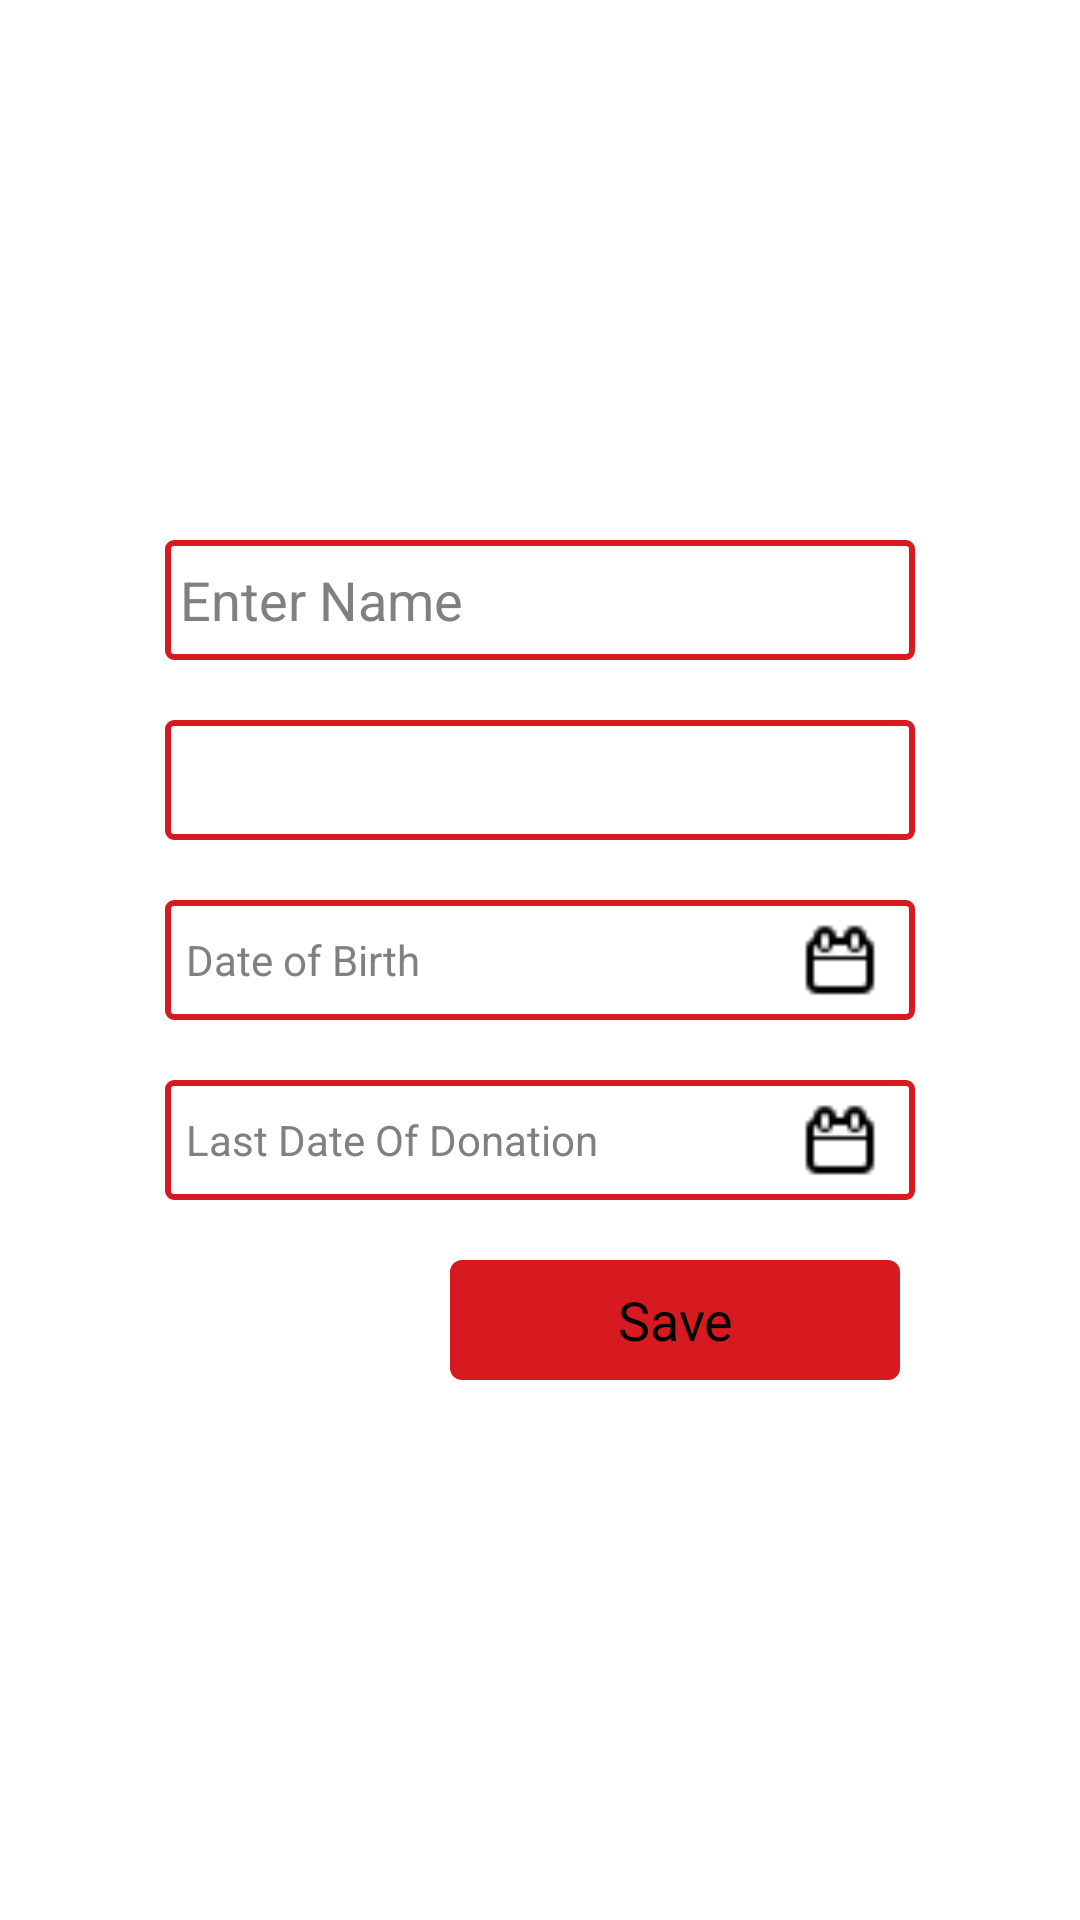

Point at icon controls on the screen. Image size 1080×1920, points as [x,y].
calander: [840,960], [840,1140]
